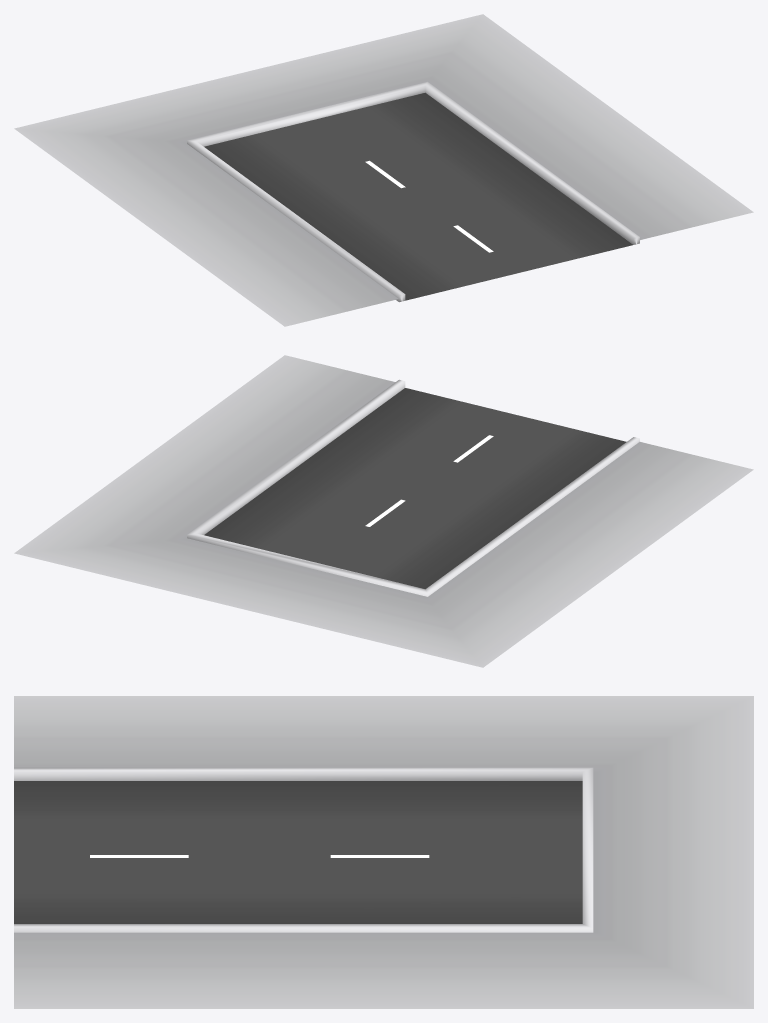
File: city2-road-025.glb
The picture shows the model from 3 angles, top to bottom: view 1: azimuth 30°, elevation 25°; view 2: azimuth 150°, elevation 25°; view 3: azimuth 270°, elevation 25°; orthographic projection. The views are drawn at different scales.
Parts seen in each view (by area): view 1: road_025; view 2: road_025; view 3: road_025.
Boxes of the visible parts, bbox=[...] form: road_025: bbox=[14, 14, 753, 326]; road_025: bbox=[14, 355, 753, 667]; road_025: bbox=[14, 696, 753, 1008].
Bounding box in the file's own units: 15 × 0.2 × 15.
1 material, 1 textured.
